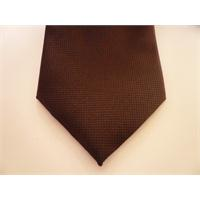tie: (37, 24, 167, 166)
